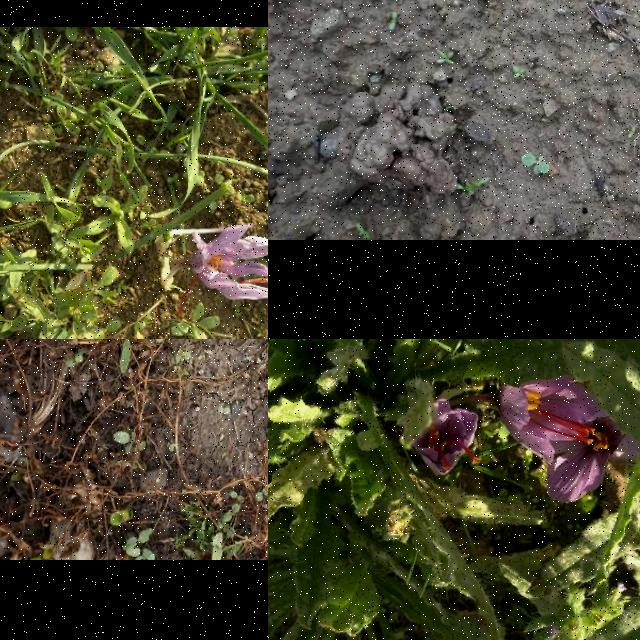flower: (408, 398, 478, 476)
overlap: (500, 382, 624, 503)
